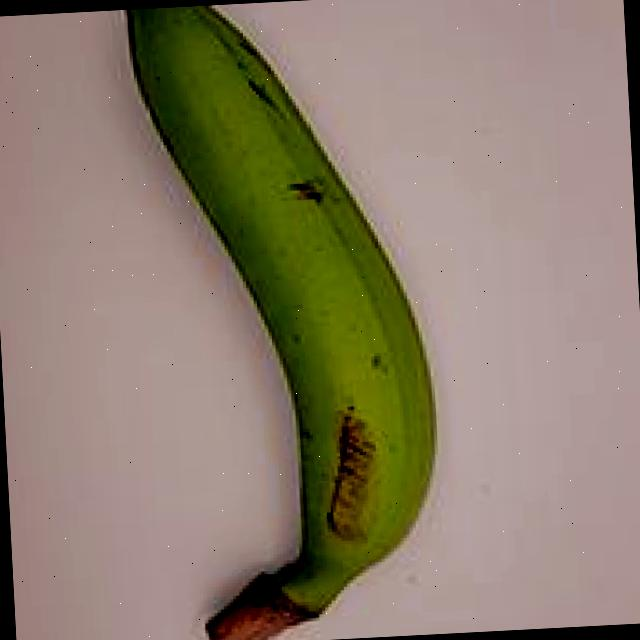Raw: (75, 0, 483, 640)
